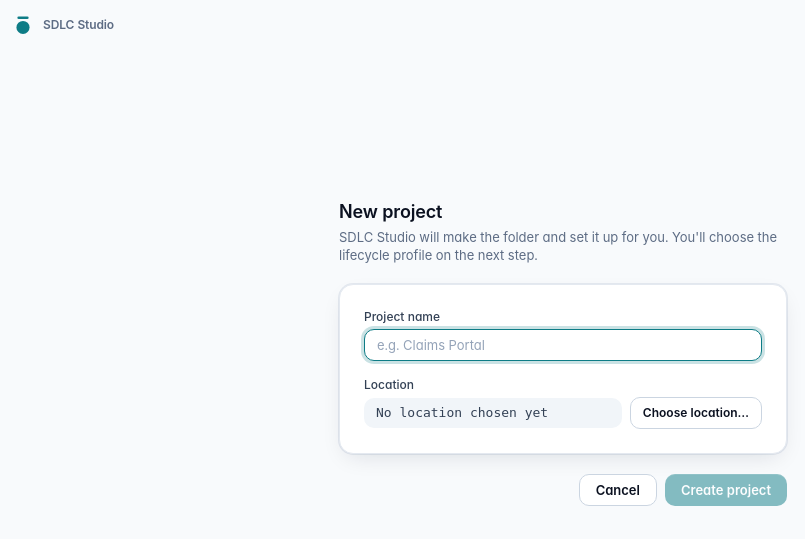
NewProjectScreen › cannot create anything until there is both a name and a location
Expected: the button "Create project" is disabled, [665,474,787,506]
Step 1. Type "Claims Portal" into the field labelled "Project name" → [563, 345], box [364,329,762,361]
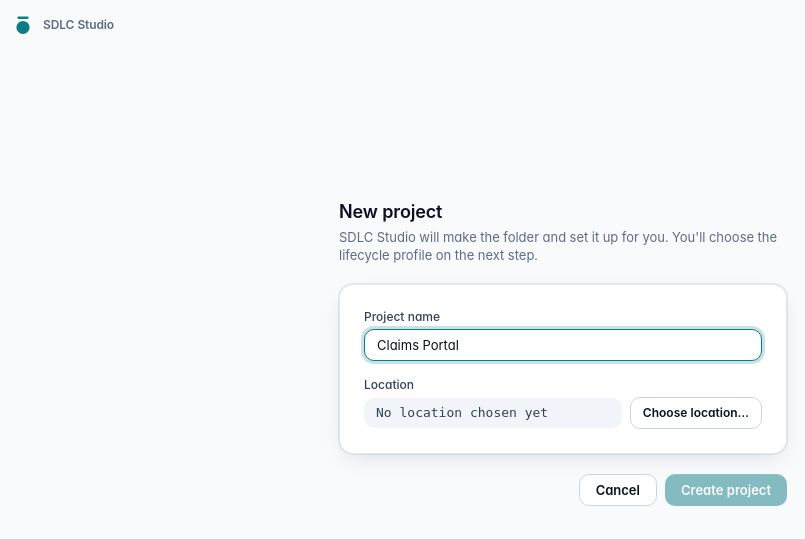
Expected: the button "Create project" is disabled, [665,474,787,506]
Step 2. Click the button "Choose location…" → [696, 413], box [630,397,762,429]
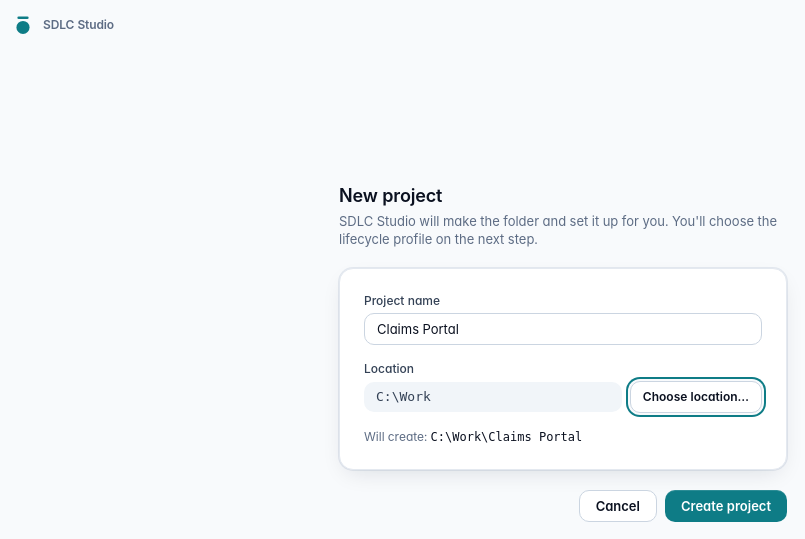
Expected: the button "Create project" is enabled, [665,490,787,522]
